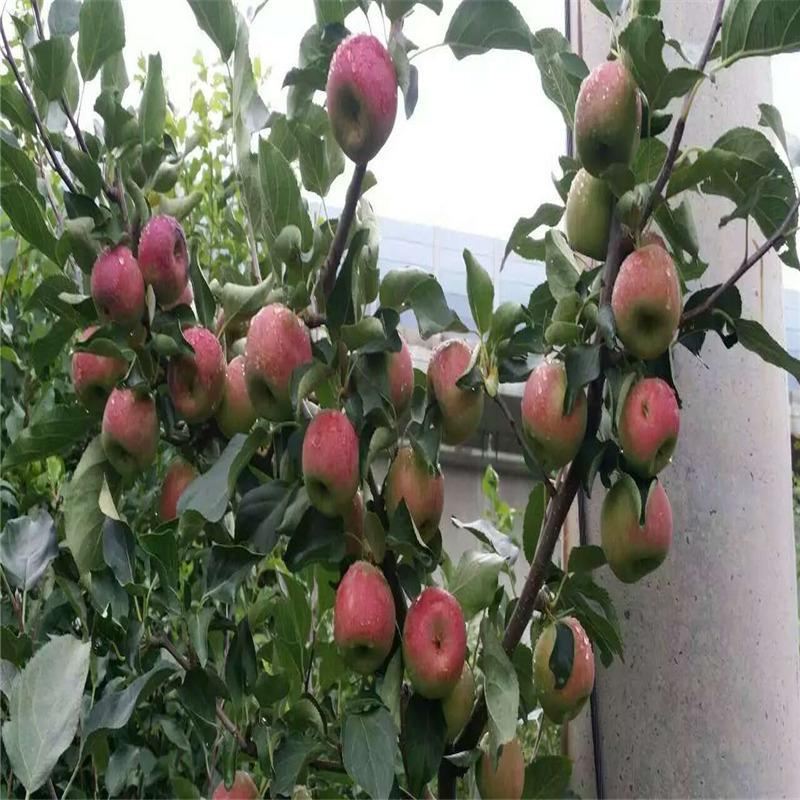apple: (327, 31, 395, 164), (518, 350, 590, 468), (576, 60, 646, 176), (612, 243, 682, 359), (600, 474, 672, 581), (331, 558, 397, 674), (245, 305, 312, 415), (529, 614, 595, 724), (402, 589, 468, 699), (299, 408, 360, 517), (618, 379, 681, 481), (429, 342, 490, 438), (166, 327, 224, 419), (357, 336, 413, 422), (87, 250, 145, 331), (102, 383, 160, 464), (140, 217, 190, 292), (73, 340, 124, 403)
